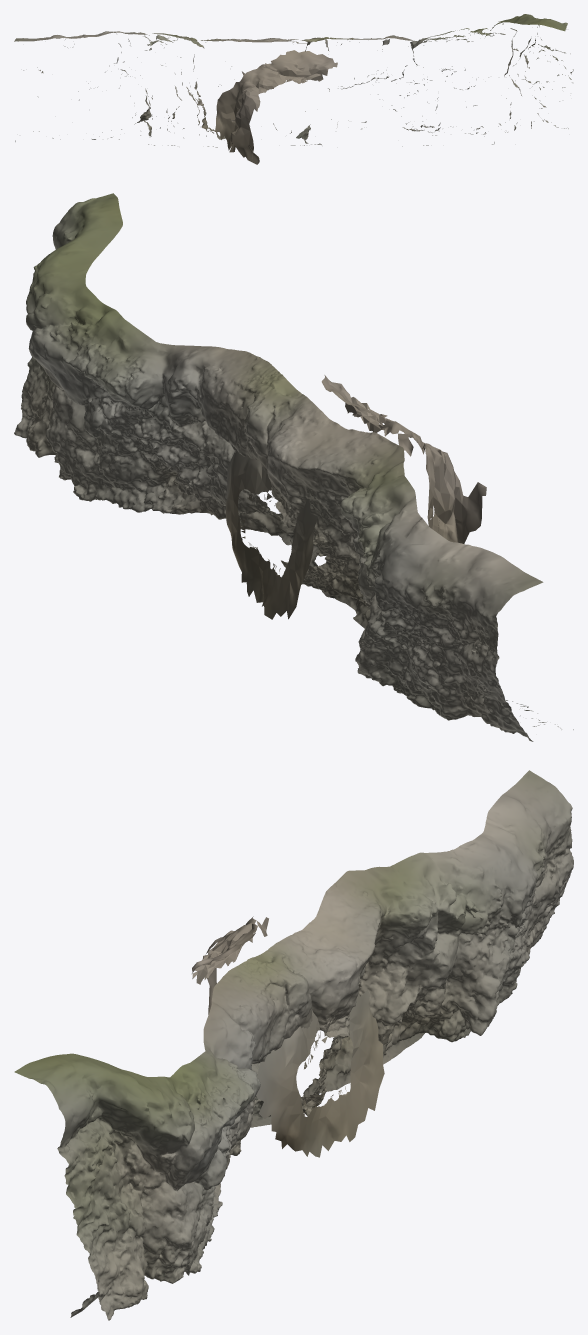
The model's file is mouth-forest.glb.
3 views of the same model, one above another, from view 1: azimuth 30°, elevation 25°; view 2: azimuth 150°, elevation 25°; view 3: azimuth 270°, elevation 25° (orthographic). The views are drawn at different scales.
Visible parts, largest first — view 1: geometry_0; view 2: geometry_0; view 3: geometry_0.
Part boxes in pixels (x1=…): geometry_0: x1=14, y1=14, x2=573, y2=164; geometry_0: x1=14, y1=193, x2=573, y2=741; geometry_0: x1=14, y1=770, x2=573, y2=1320.
Size of the model in its own units: 43.99 by 13 by 27.97.
